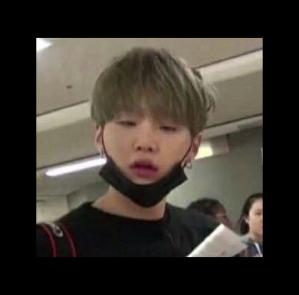mask_weared_incorrect: (104, 117, 194, 201)
without_mask: (253, 207, 263, 236)
